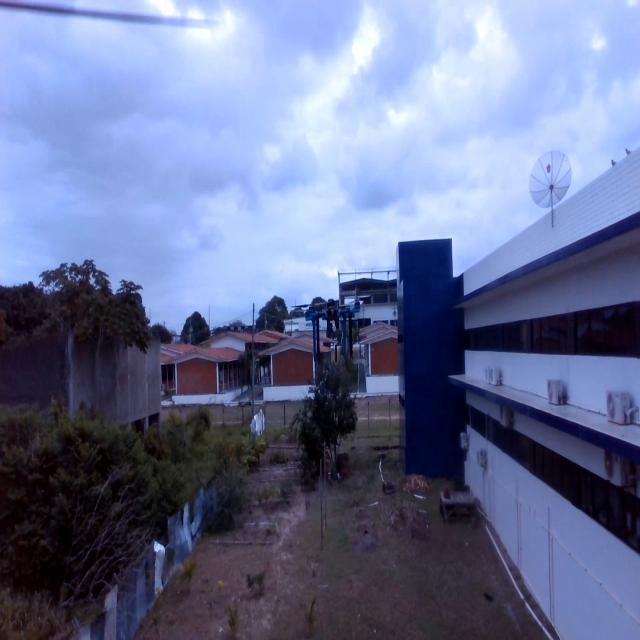-uav-: (290, 280, 375, 396)
